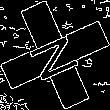N_NE: (23, 26, 87, 84)
